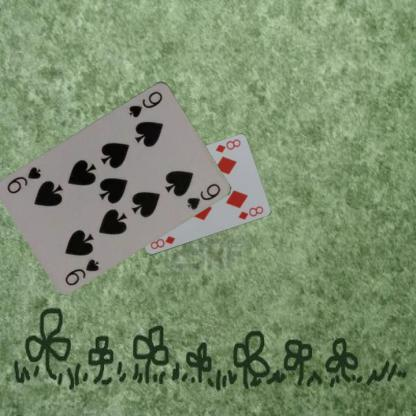8d: (212, 136, 242, 154), (148, 233, 176, 251)
9s: (126, 88, 164, 119), (62, 256, 100, 287)
